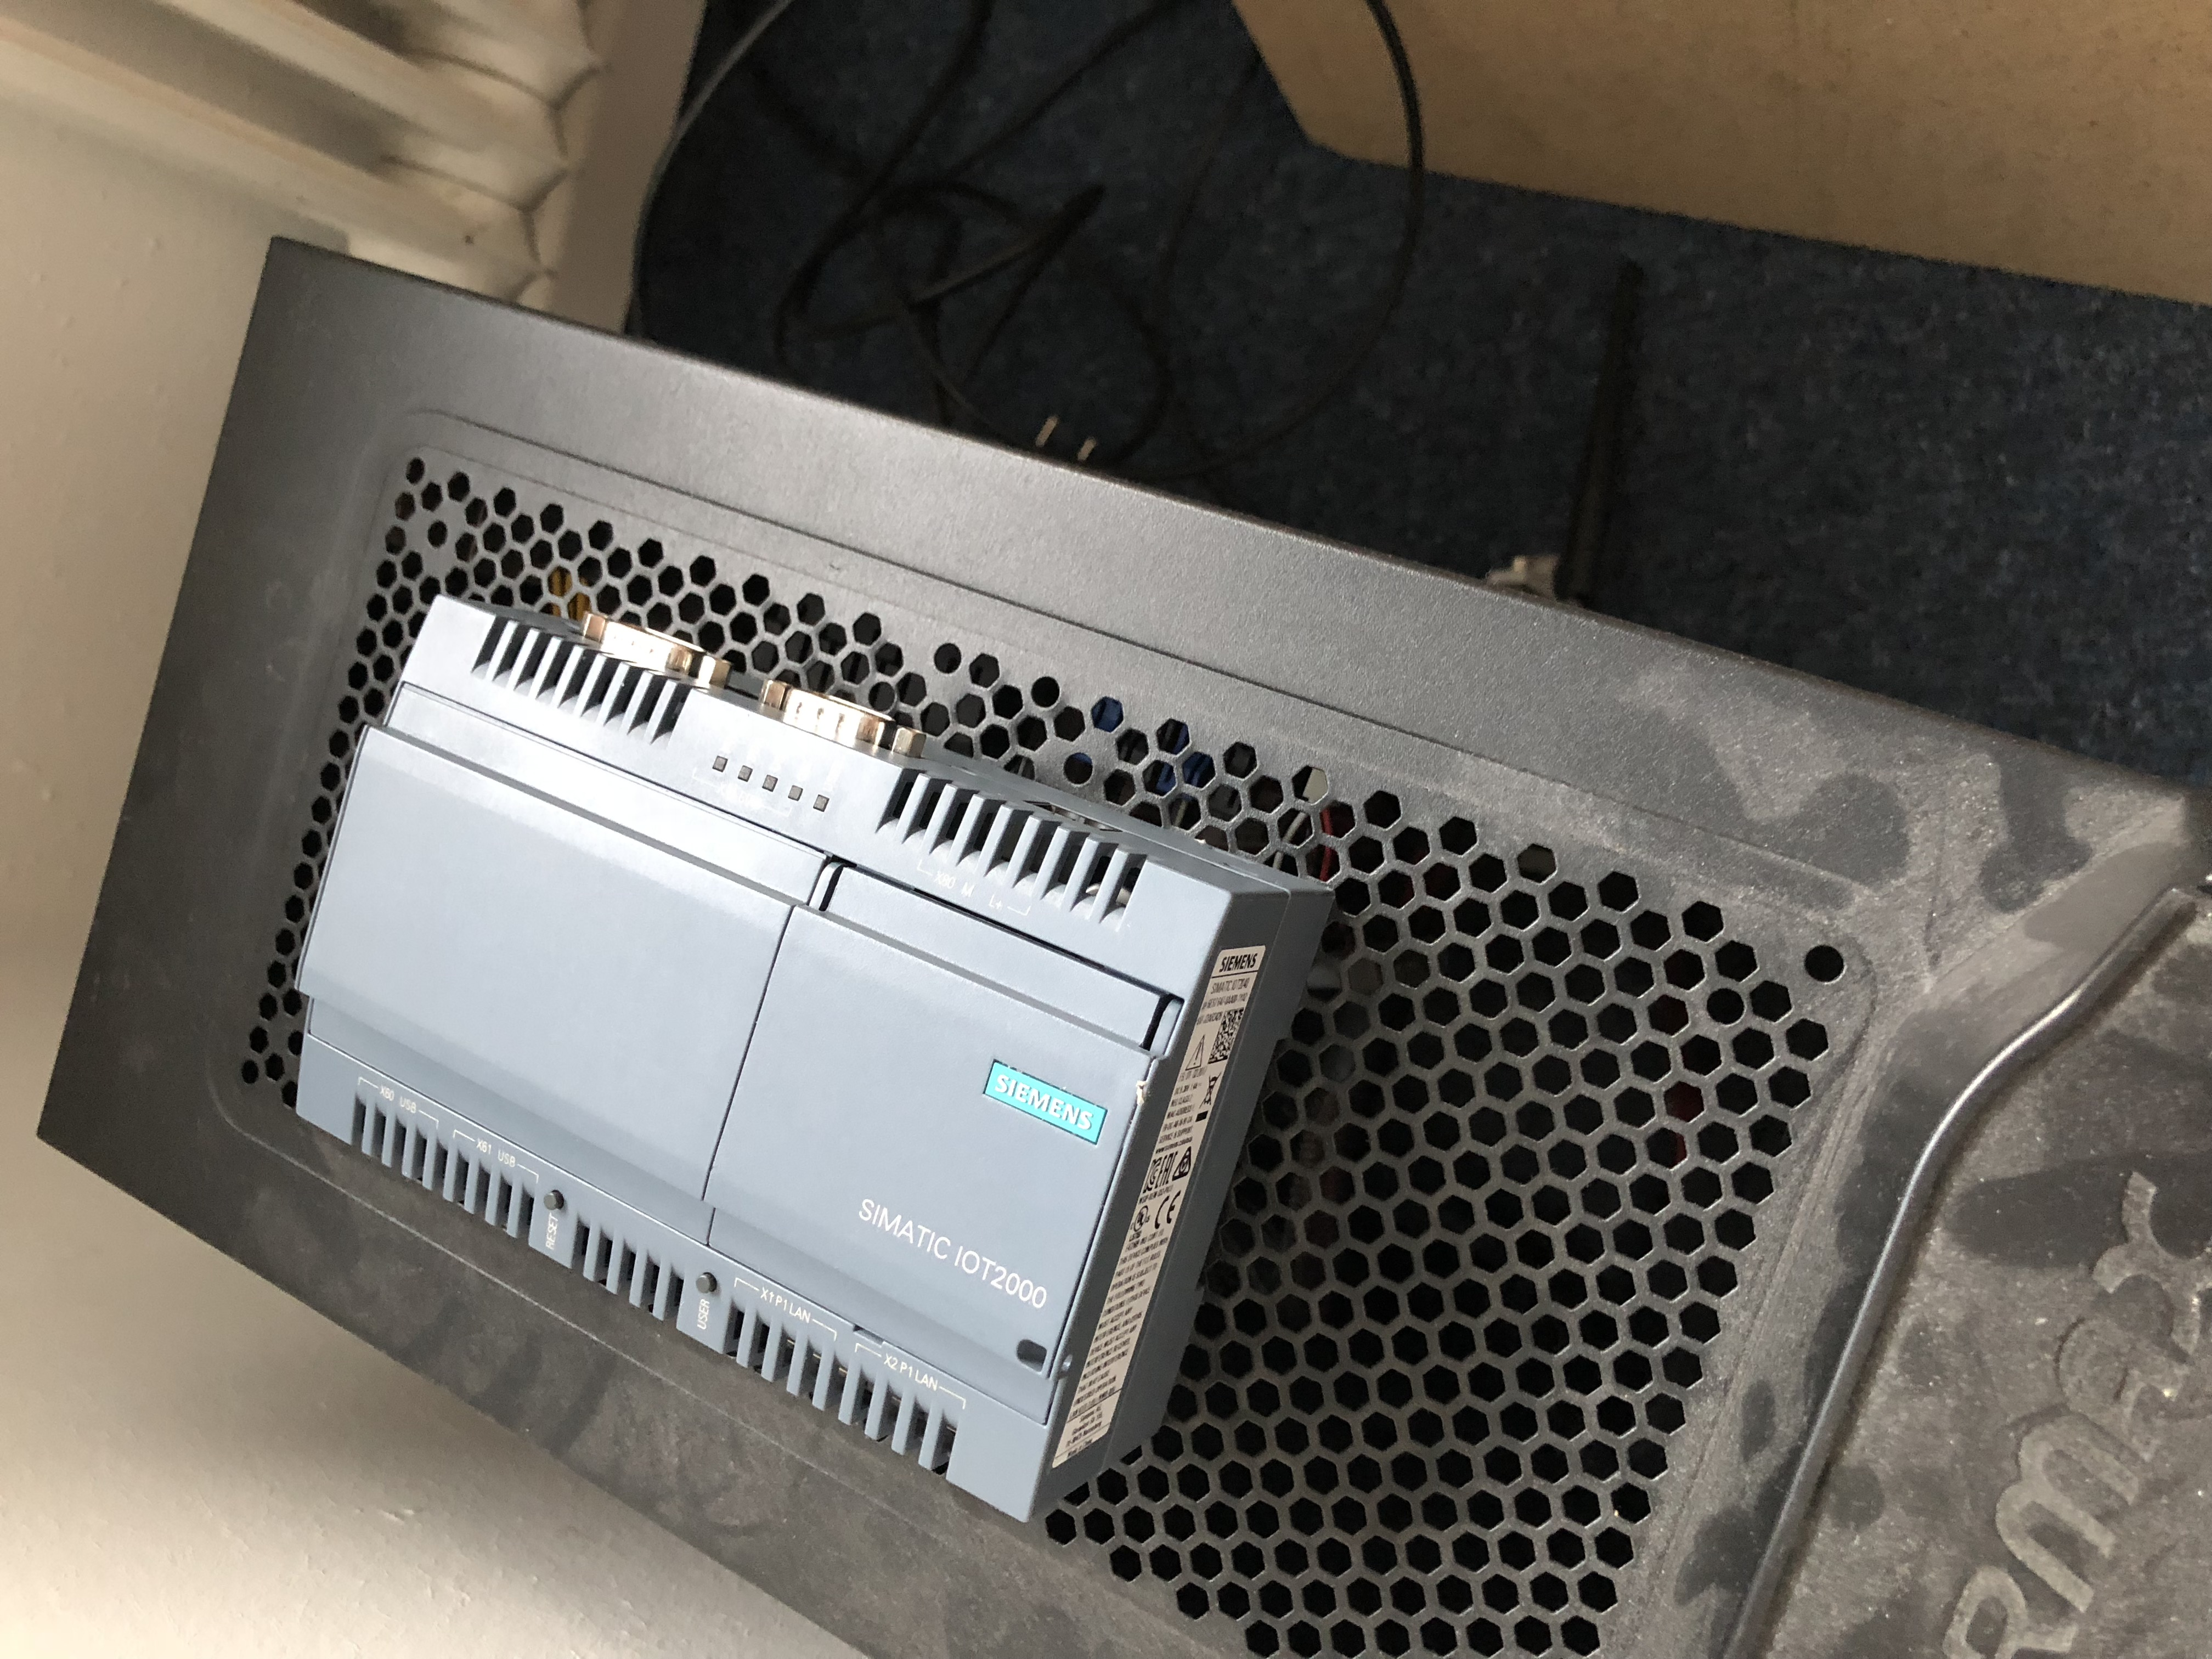device: (294, 594, 1334, 1525)
